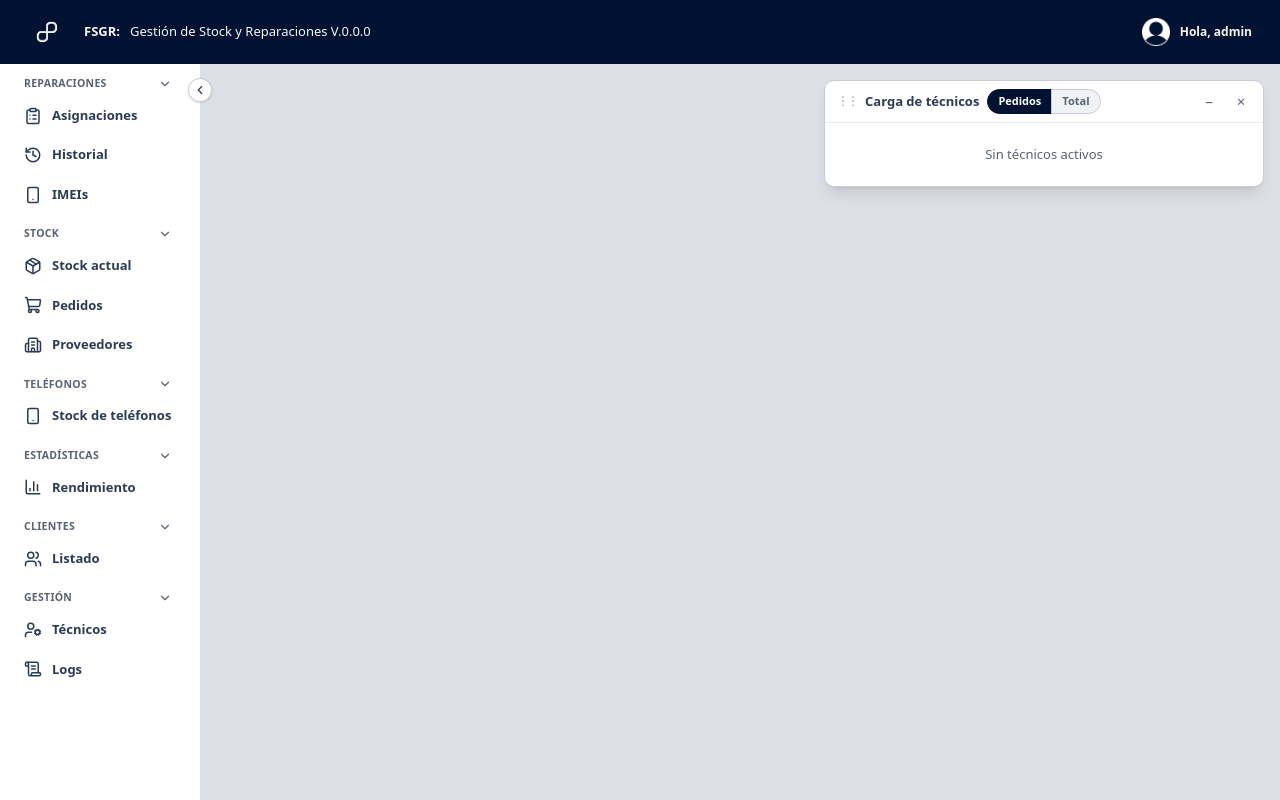
Test: "Cambiar contraseña" desde el menú de usuario (spec §6.3, G6) › admin: abre el diálogo sobre la vista actual, sin navegar
The image size is (1280, 800).
Click the button "Hola, admin" at (1197, 32), box [1134,14,1260,50]
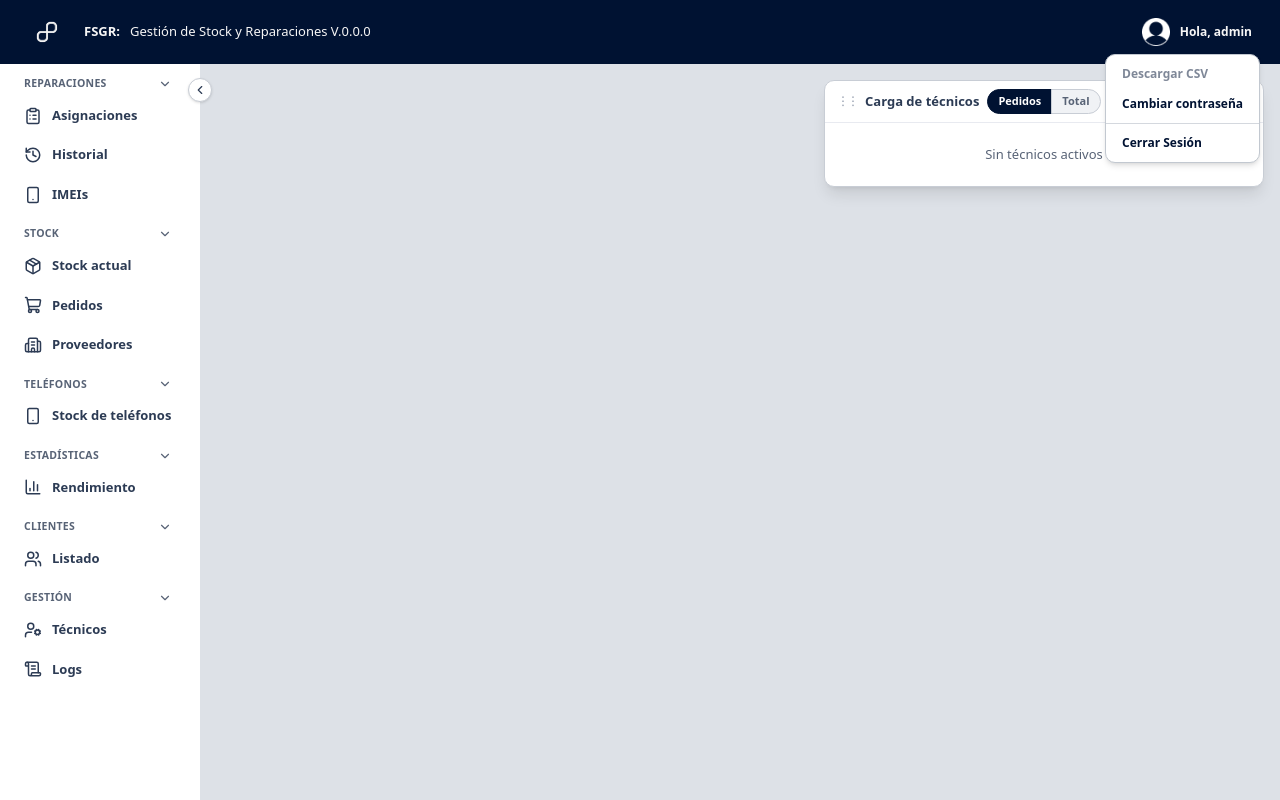
Click the menu item "Cambiar contraseña" at (1183, 104), box [1122,95,1243,112]
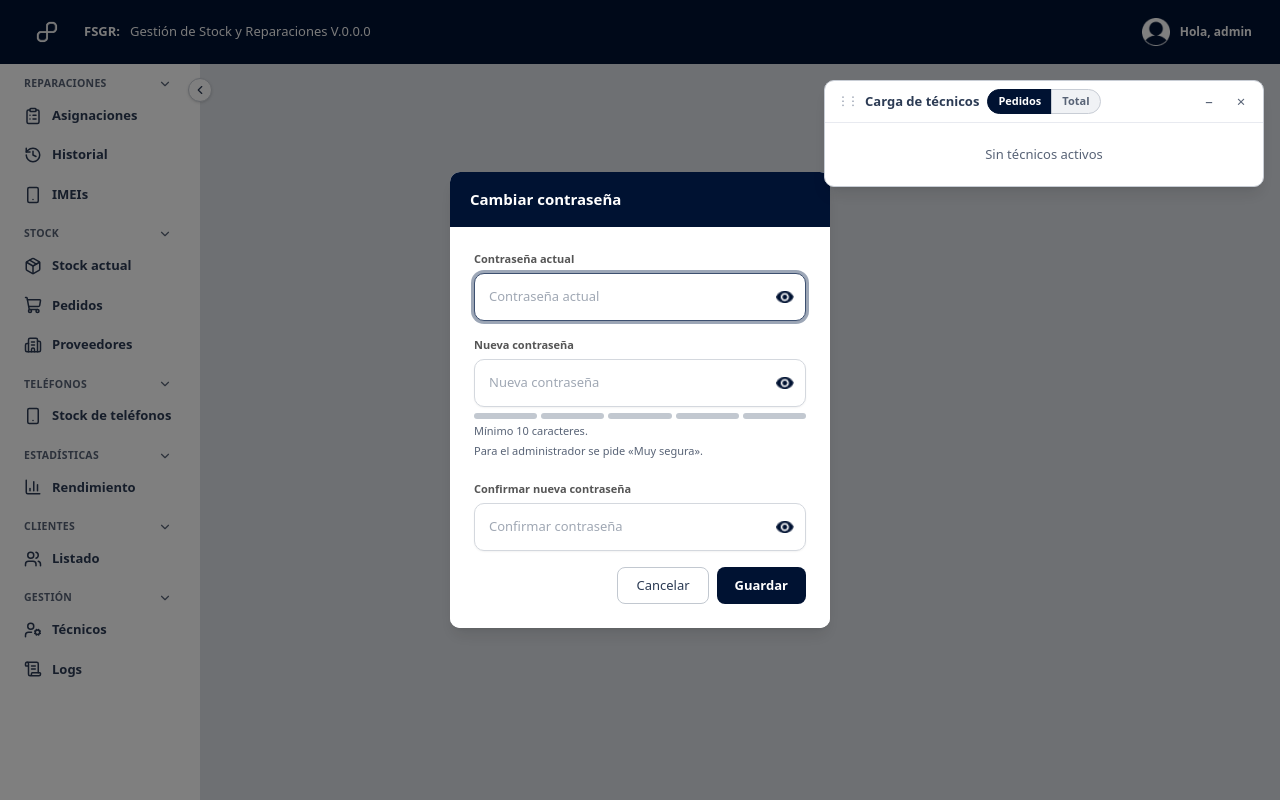
Expected: the text "FSGR:" is shown, [84,22,120,42]
Expected: the password field labelled "Contraseña actual" is shown, [474,273,806,320]
